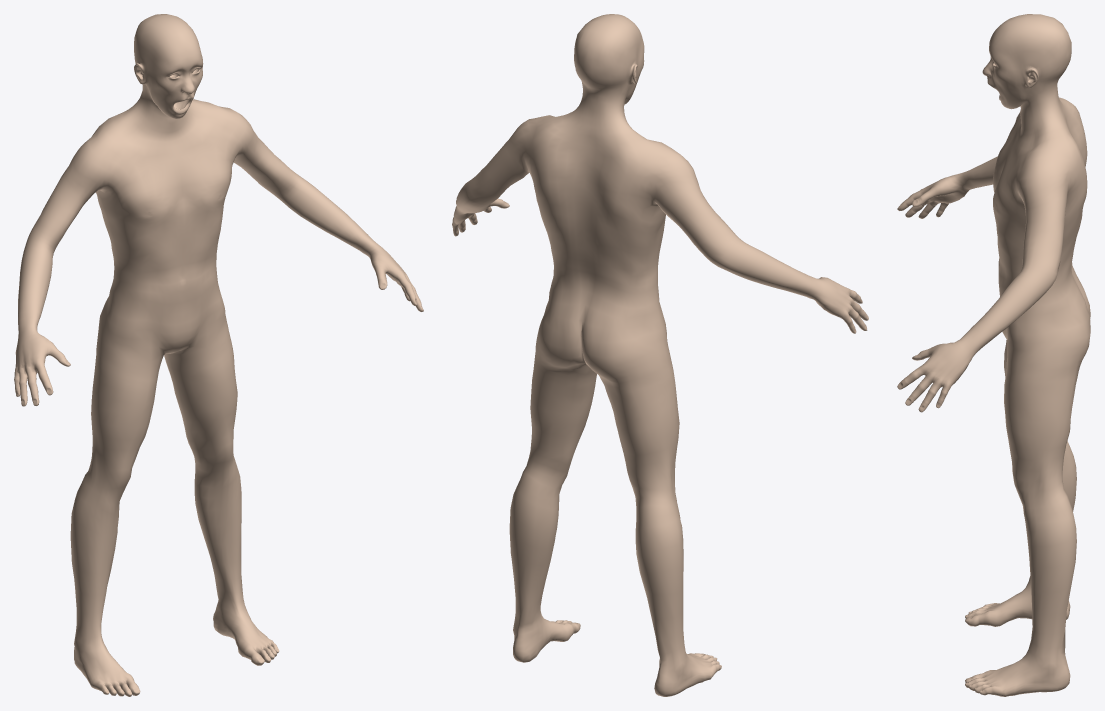
File: patient_derived.glb
3 views of the same model, side by side, from view 1: azimuth 30°, elevation 25°; view 2: azimuth 150°, elevation 25°; view 3: azimuth 270°, elevation 25° (orthographic).
Visible parts, largest first — view 1: h1-base; view 2: h1-base; view 3: h1-base.
Boxes of the visible parts, box(x1,y1,x2,y2) form: h1-base: box(14, 14, 423, 696); h1-base: box(452, 14, 868, 696); h1-base: box(897, 14, 1090, 696).
Bounding box in the file's own units: 1.13 × 1.73 × 0.4748.
